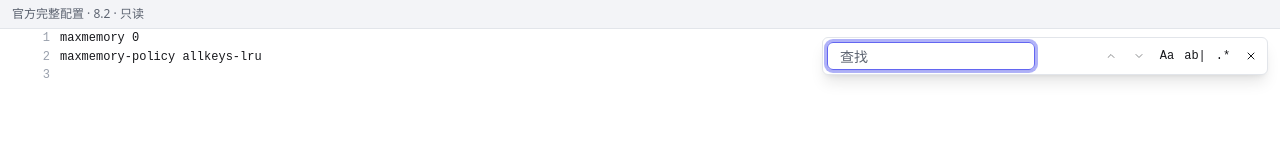
Test case: 命中渲染为 mark 并显示计数
Type "maxmemory" into the search field named "在官方配置中查找".
click(931, 56); type("maxmemory")  # box [827, 42, 1035, 70]
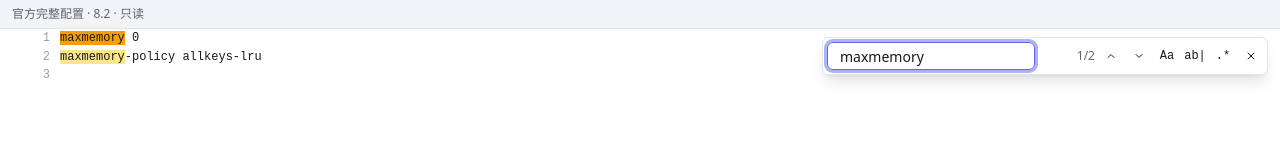
expect the text "1/2" is shown: met, box [1077, 47, 1095, 64]
